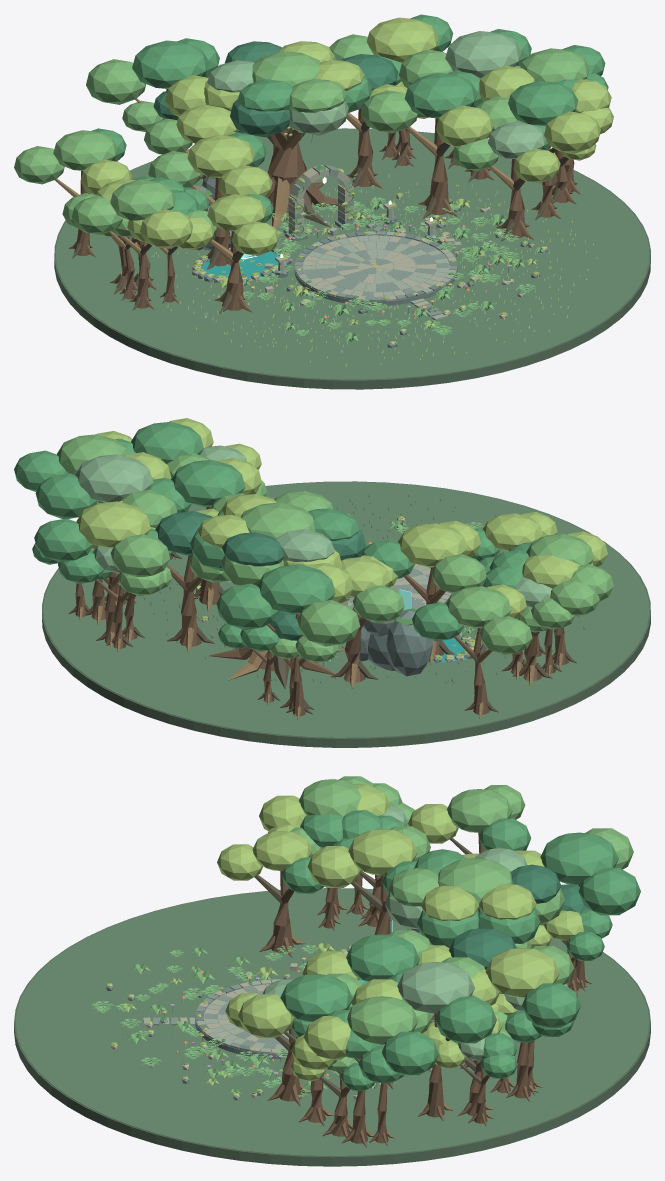
The model's file is lush-forest-arena.glb.
The picture shows the model from 3 angles, top to bottom: view 1: azimuth 30°, elevation 25°; view 2: azimuth 150°, elevation 25°; view 3: azimuth 270°, elevation 25°; orthographic projection. The views are drawn at different scales.
Visible parts, largest first — view 1: 01 Battlefield | Forest | Ground green, 03 Forest canopy | Forest | Lime leaves, 03 Forest canopy | Forest | Jade leaves, 03 Forest canopy | Forest | Emerald leaves, 03 Forest canopy | Forest | Bark umber, 01 Battlefield | Forest | Earth, 06 Undergrowth | Forest | Fern bright, 01 Battlefield | Forest | Slate sage, 03 Forest canopy | Forest | Mint foliage, 02 Ancient tree | Forest | Jade leaves, 01 Battlefield | Forest | Slate pale, 01 Battlefield | Forest | Slate warm (+18 smaller); view 2: 01 Battlefield | Forest | Ground green, 03 Forest canopy | Forest | Emerald leaves, 03 Forest canopy | Forest | Jade leaves, 03 Forest canopy | Forest | Lime leaves, 03 Forest canopy | Forest | Bark umber, 01 Battlefield | Forest | Earth, 03 Forest canopy | Forest | Mint foliage, 02 Ancient tree | Forest | Jade leaves, 05 Waterfall and pond | Forest | Slate deep, 02 Ancient tree | Forest | Deep foliage, 02 Ancient tree | Forest | Lime leaves, 03 Forest canopy | Forest | Deep foliage (+6 smaller); view 3: 01 Battlefield | Forest | Ground green, 03 Forest canopy | Forest | Emerald leaves, 03 Forest canopy | Forest | Lime leaves, 03 Forest canopy | Forest | Jade leaves, 03 Forest canopy | Forest | Bark umber, 01 Battlefield | Forest | Earth, 02 Ancient tree | Forest | Jade leaves, 03 Forest canopy | Forest | Mint foliage, 02 Ancient tree | Forest | Lime leaves, 02 Ancient tree | Forest | Emerald leaves, 06 Undergrowth | Forest | Fern bright, 03 Forest canopy | Forest | Deep foliage (+9 smaller).
Boxes of the visible parts, bbox=[...] form: 01 Battlefield | Forest | Ground green: bbox=[56, 128, 649, 379]; 03 Forest canopy | Forest | Lime leaves: bbox=[80, 17, 613, 255]; 03 Forest canopy | Forest | Jade leaves: bbox=[14, 34, 589, 237]; 03 Forest canopy | Forest | Emerald leaves: bbox=[92, 14, 608, 222]; 03 Forest canopy | Forest | Bark umber: bbox=[74, 89, 580, 312]; 01 Battlefield | Forest | Earth: bbox=[54, 128, 650, 389]; 06 Undergrowth | Forest | Fern bright: bbox=[226, 197, 535, 335]; 01 Battlefield | Forest | Slate sage: bbox=[295, 231, 457, 316]; 03 Forest canopy | Forest | Mint foliage: bbox=[445, 31, 546, 159]; 02 Ancient tree | Forest | Jade leaves: bbox=[252, 51, 346, 112]; 01 Battlefield | Forest | Slate pale: bbox=[297, 231, 456, 320]; 01 Battlefield | Forest | Slate warm: bbox=[303, 232, 456, 307]; 01 Battlefield | Forest | Ground green: bbox=[43, 481, 649, 738]; 03 Forest canopy | Forest | Emerald leaves: bbox=[14, 421, 531, 651]; 03 Forest canopy | Forest | Jade leaves: bbox=[57, 434, 613, 662]; 03 Forest canopy | Forest | Lime leaves: bbox=[76, 418, 607, 618]; 03 Forest canopy | Forest | Bark umber: bbox=[68, 506, 568, 716]; 01 Battlefield | Forest | Earth: bbox=[42, 481, 650, 747]; 03 Forest canopy | Forest | Mint foliage: bbox=[75, 445, 552, 607]; 02 Ancient tree | Forest | Jade leaves: bbox=[221, 491, 332, 585]; 05 Waterfall and pond | Forest | Slate deep: bbox=[359, 610, 474, 676]; 02 Ancient tree | Forest | Deep foliage: bbox=[222, 529, 366, 566]; 02 Ancient tree | Forest | Lime leaves: bbox=[197, 494, 342, 567]; 03 Forest canopy | Forest | Deep foliage: bbox=[155, 511, 302, 640]; 01 Battlefield | Forest | Ground green: bbox=[15, 888, 649, 1156]; 03 Forest canopy | Forest | Emerald leaves: bbox=[280, 810, 640, 1090]; 03 Forest canopy | Forest | Lime leaves: bbox=[217, 784, 583, 1080]; 03 Forest canopy | Forest | Jade leaves: bbox=[290, 776, 633, 1071]; 03 Forest canopy | Forest | Bark umber: bbox=[259, 833, 585, 1147]; 01 Battlefield | Forest | Earth: bbox=[14, 888, 650, 1166]; 02 Ancient tree | Forest | Jade leaves: bbox=[388, 858, 565, 925]; 03 Forest canopy | Forest | Mint foliage: bbox=[262, 804, 524, 1060]; 02 Ancient tree | Forest | Lime leaves: bbox=[421, 883, 536, 920]; 02 Ancient tree | Forest | Emerald leaves: bbox=[414, 849, 540, 947]; 06 Undergrowth | Forest | Fern bright: bbox=[92, 945, 434, 1097]; 03 Forest canopy | Forest | Deep foliage: bbox=[449, 884, 588, 969].
Bounding box in the file's own units: 81.25 × 22.16 × 76.
